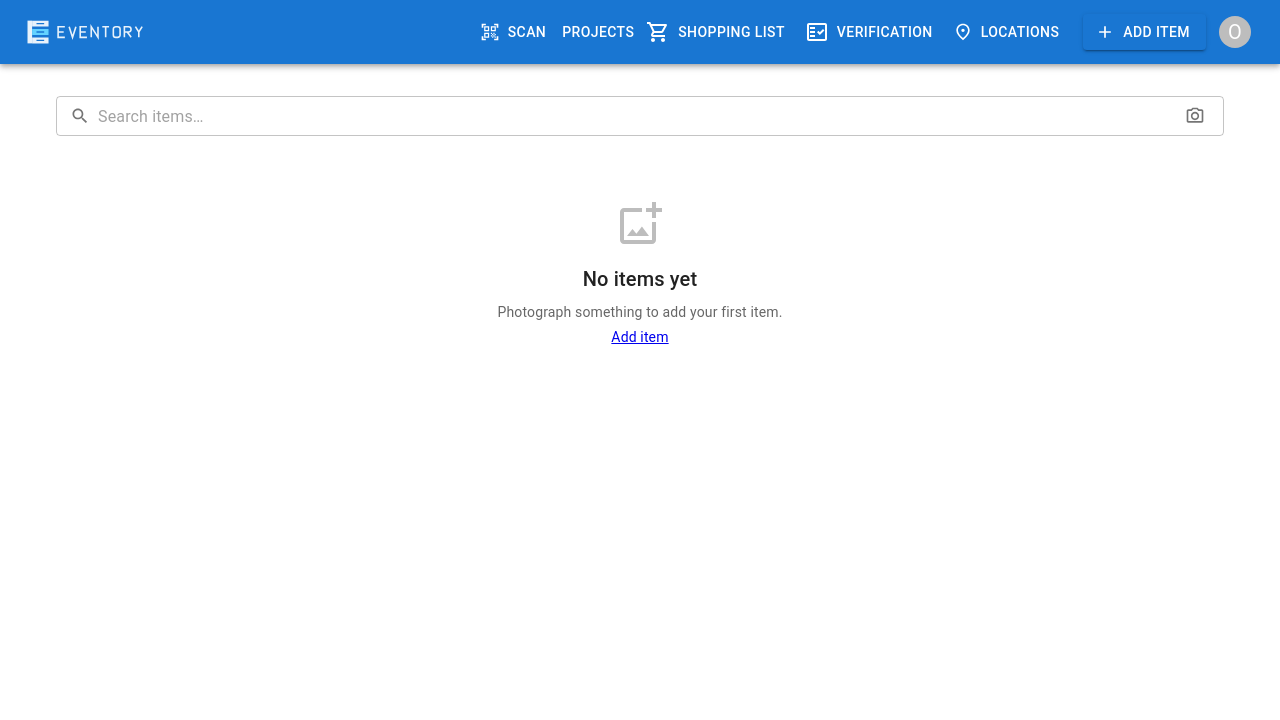
it: App / workspace UI (EVT-43) › AC3: switching workspaces in the dialog updates the active workspace shown in the avatar menu
This screenshot has width=1280, height=720.
Expected: the heading "No items yet" is shown, [583,267,697,291]
Click the button named "account menu" at (1235, 32), box [1214,11,1256,53]
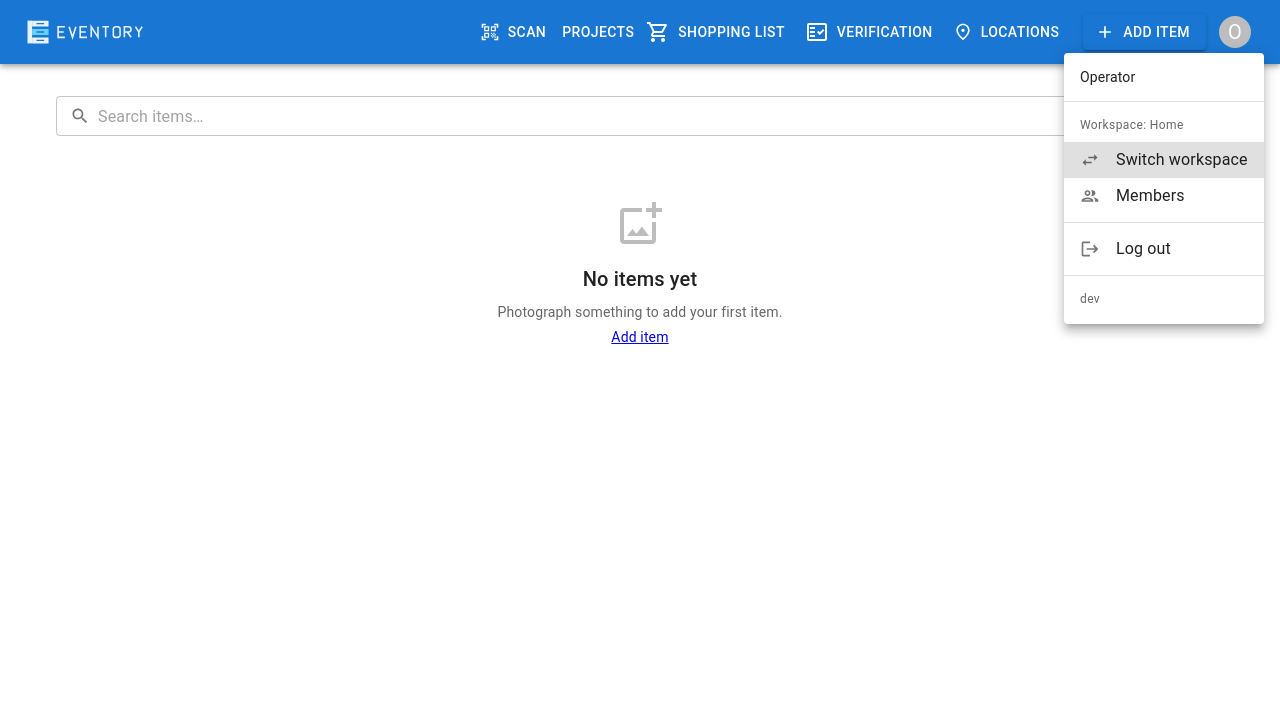
Click the menu item "Switch workspace" at (1164, 160), box [1064,142,1264,178]
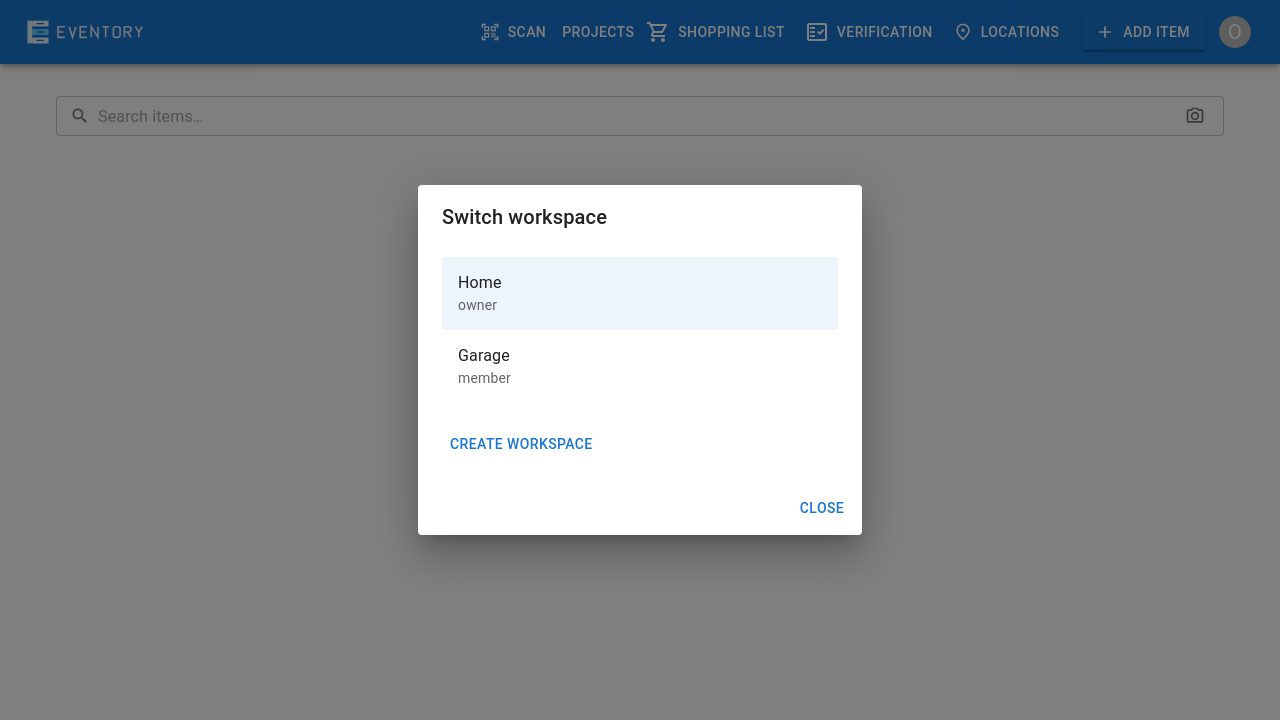
Click the text "Garage" at (484, 355), box [458,346,510,364]
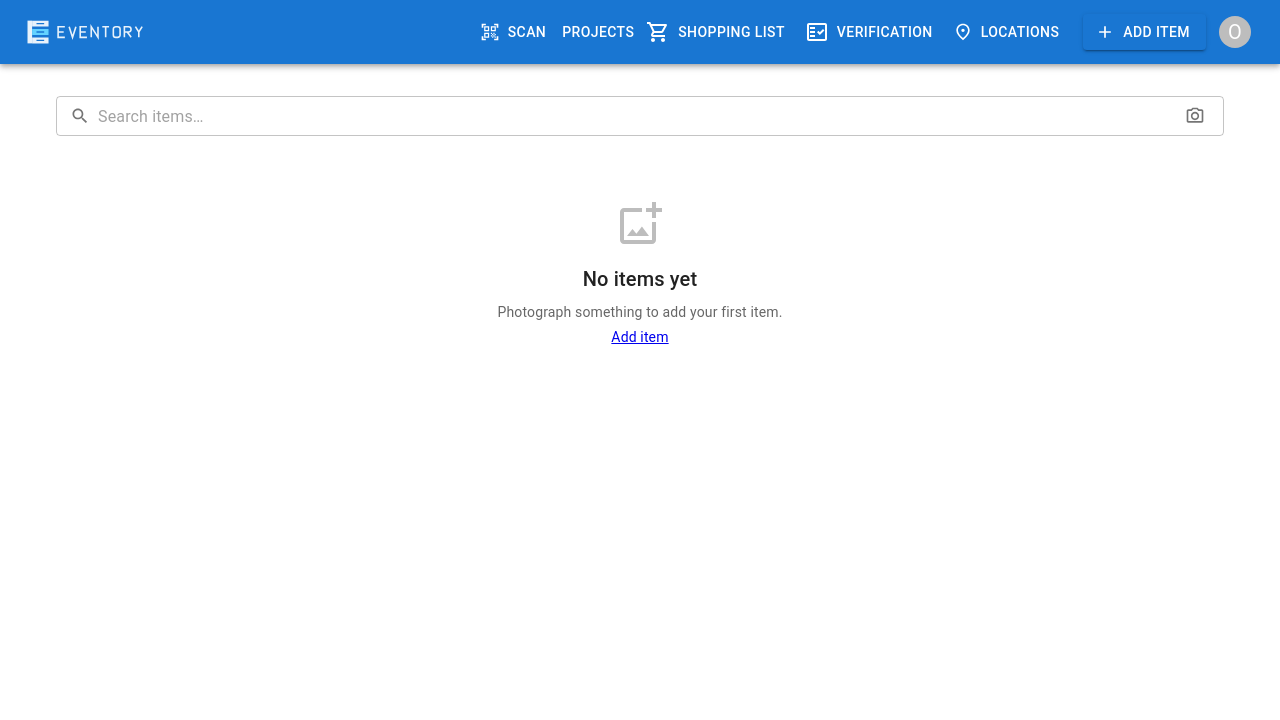
Expected: the dialog is gone
Click the button named "account menu" at (1235, 32), box [1214,11,1256,53]
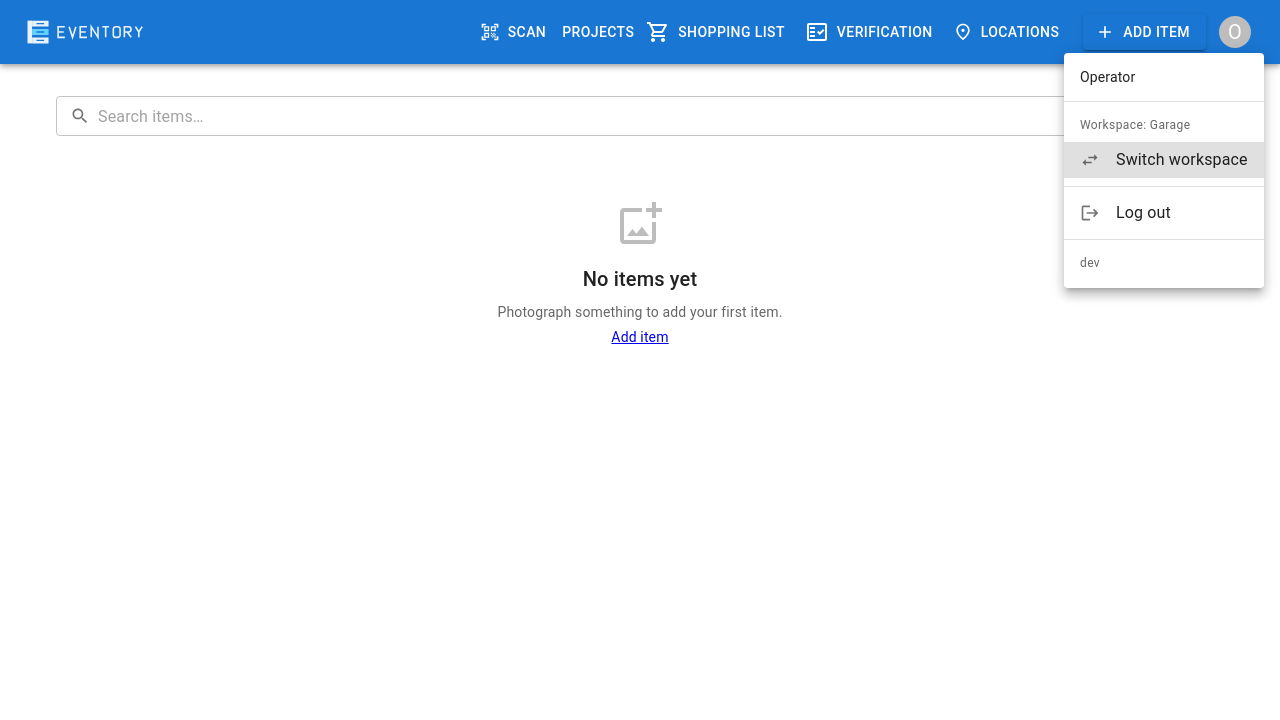
Expected: the text "Workspace: Garage" is shown, [1080,116,1190,136]
